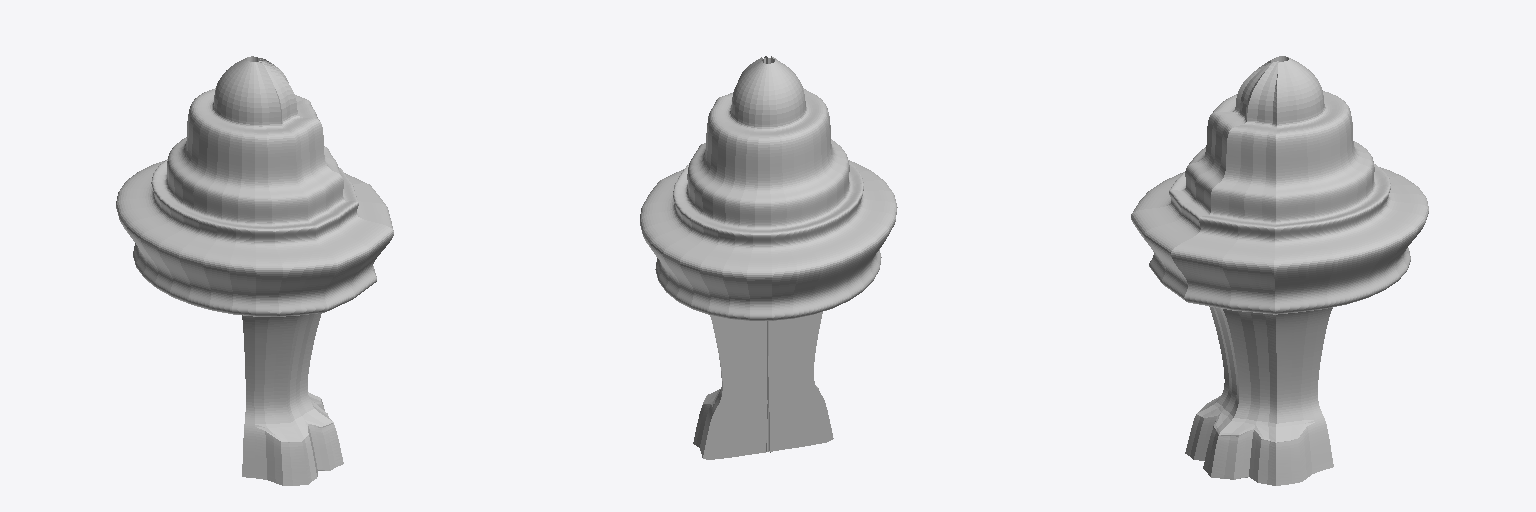
File: tube_foot4.obj
The picture shows the model from 3 angles: view 1: azimuth 30°, elevation 25°; view 2: azimuth 150°, elevation 25°; view 3: azimuth 270°, elevation 25°; orthographic projection.
Visible parts, largest first — view 1: Line005; view 2: Line005; view 3: Line005.
Boxes of the visible parts, box(x1,y1,x2,y2) form: Line005: box(116, 56, 393, 485); Line005: box(640, 56, 897, 459); Line005: box(1131, 56, 1428, 485).
Size of the model in its own units: 43.54 by 72.47 by 49.96.